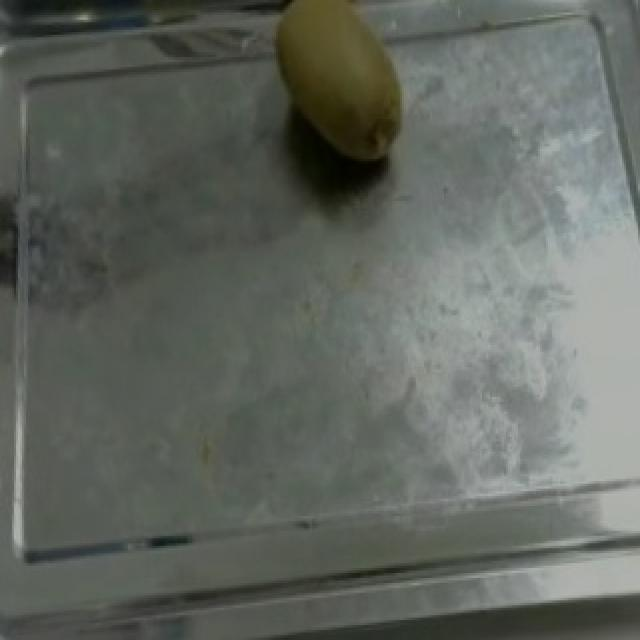Fruit: (258, 0, 424, 174)
